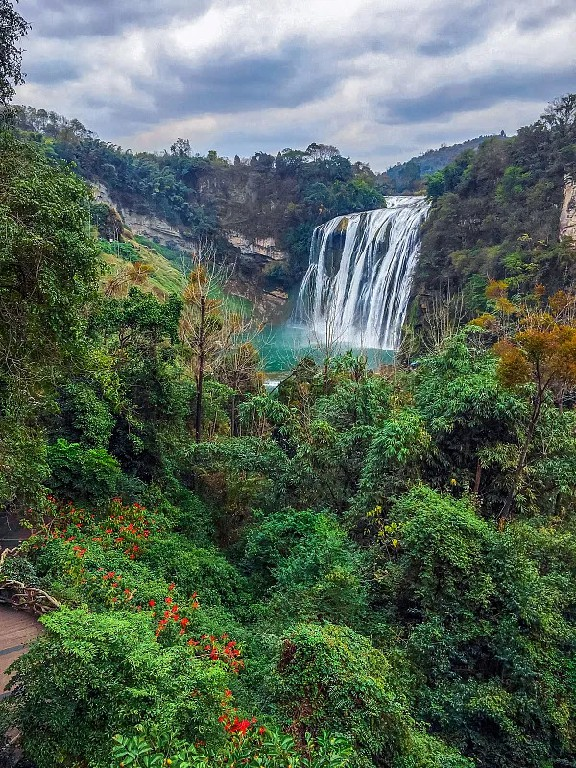Huangguoshu: (293, 196, 430, 349)
